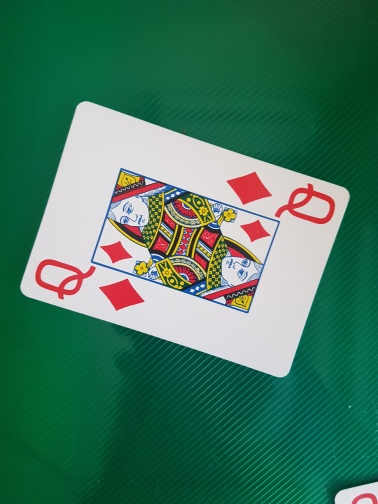queen: (21, 101, 350, 379)
